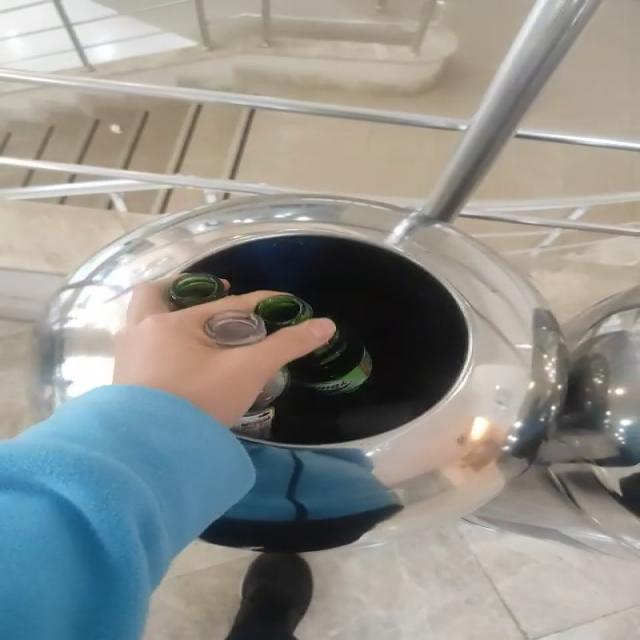Glass: (232, 326, 372, 440), (205, 294, 315, 347), (288, 327, 372, 396), (204, 294, 315, 346), (232, 369, 289, 440), (169, 274, 228, 309), (171, 274, 201, 304)
